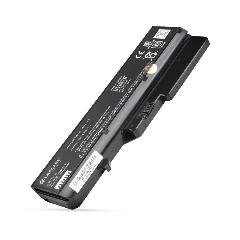electronic: (2, 0, 222, 232)
